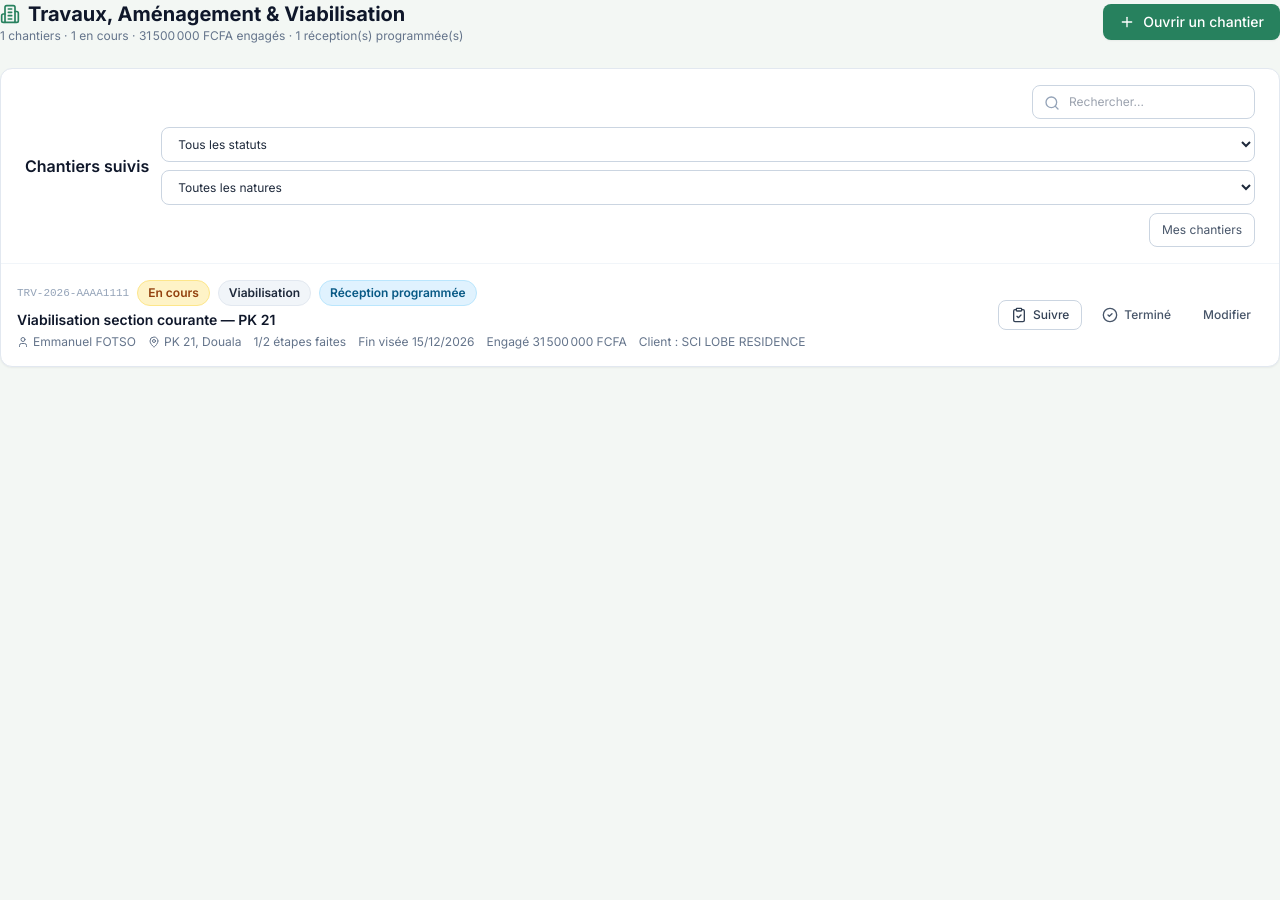
it: ProjectsPage en mode connecté › refuse la création quand la fin prévisionnelle précède le début
The image size is (1280, 900).
Expected: the text "TRV-2026-AAAA1111" is shown, left=17, top=285, right=129, bottom=301
Click the button "Ouvrir un chantier".
click(1192, 22)  # box left=1103, top=4, right=1279, bottom=40
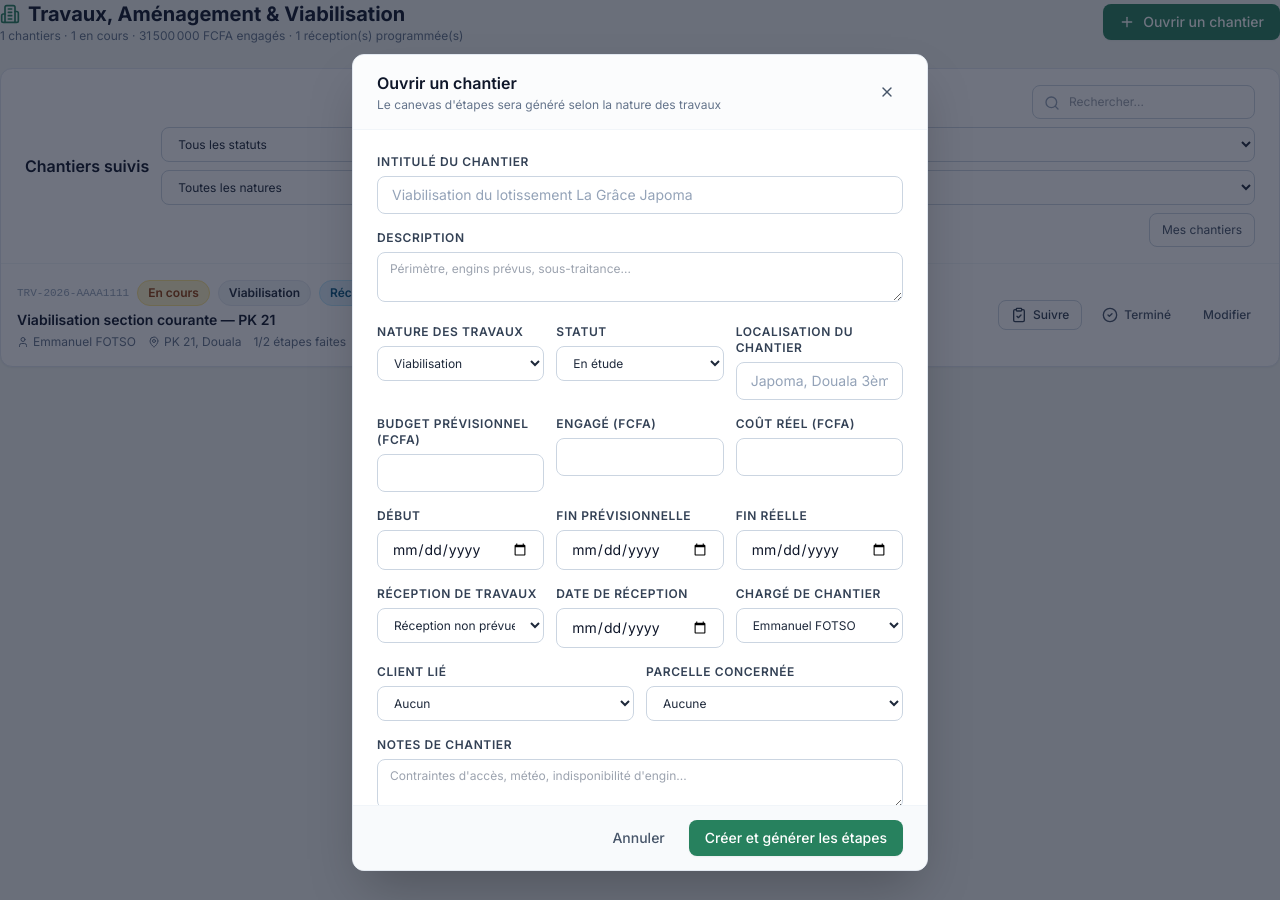
Type "Chantier incohérent" into the field with placeholder "Viabilisation du lotissement La Grâce Japoma".
click(640, 194); type("Chantier incohérent")  # box left=377, top=176, right=903, bottom=214
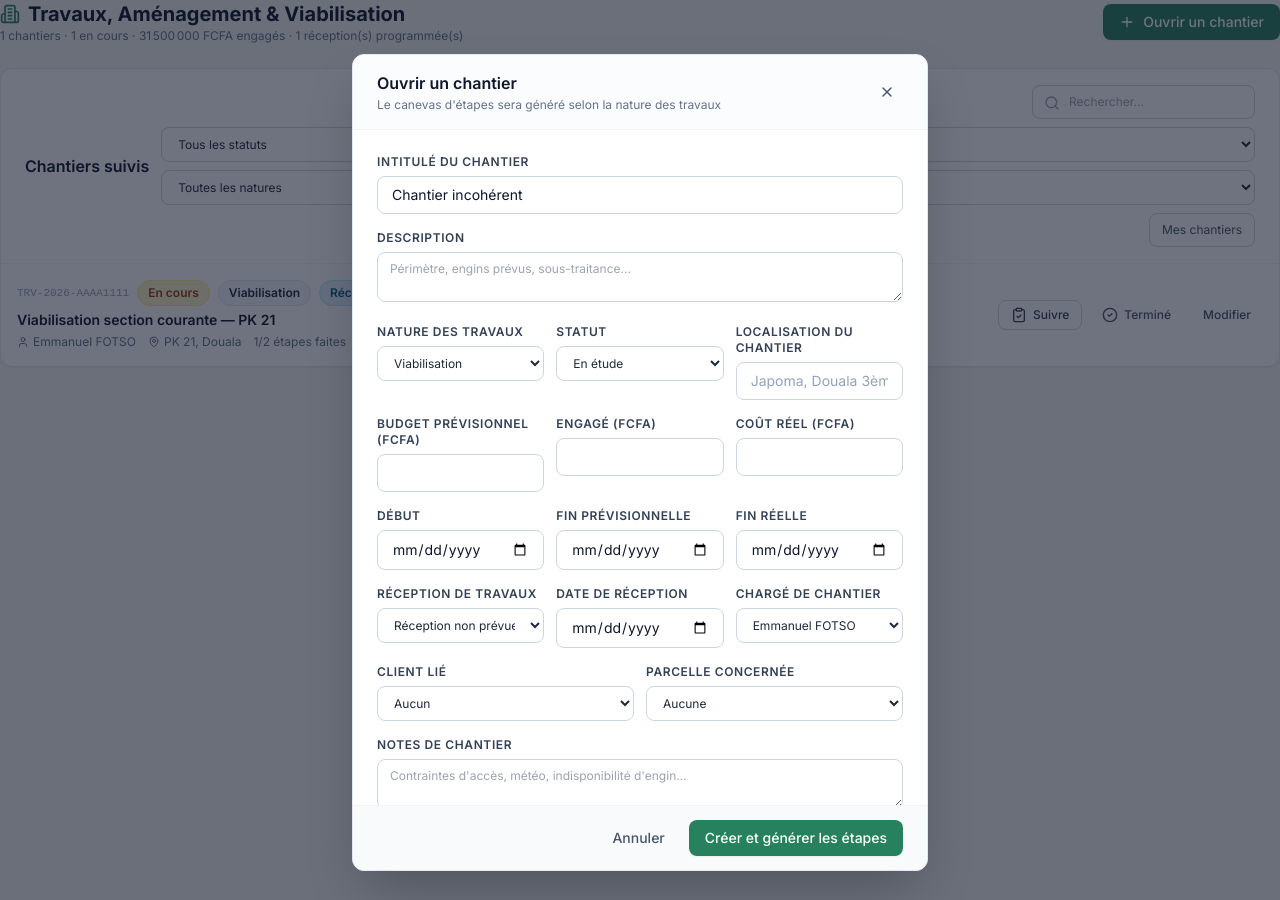
Type "2026-12-20" into the date field labelled "Début".
click(461, 550); type("2026-12-20")  # box left=377, top=530, right=544, bottom=570
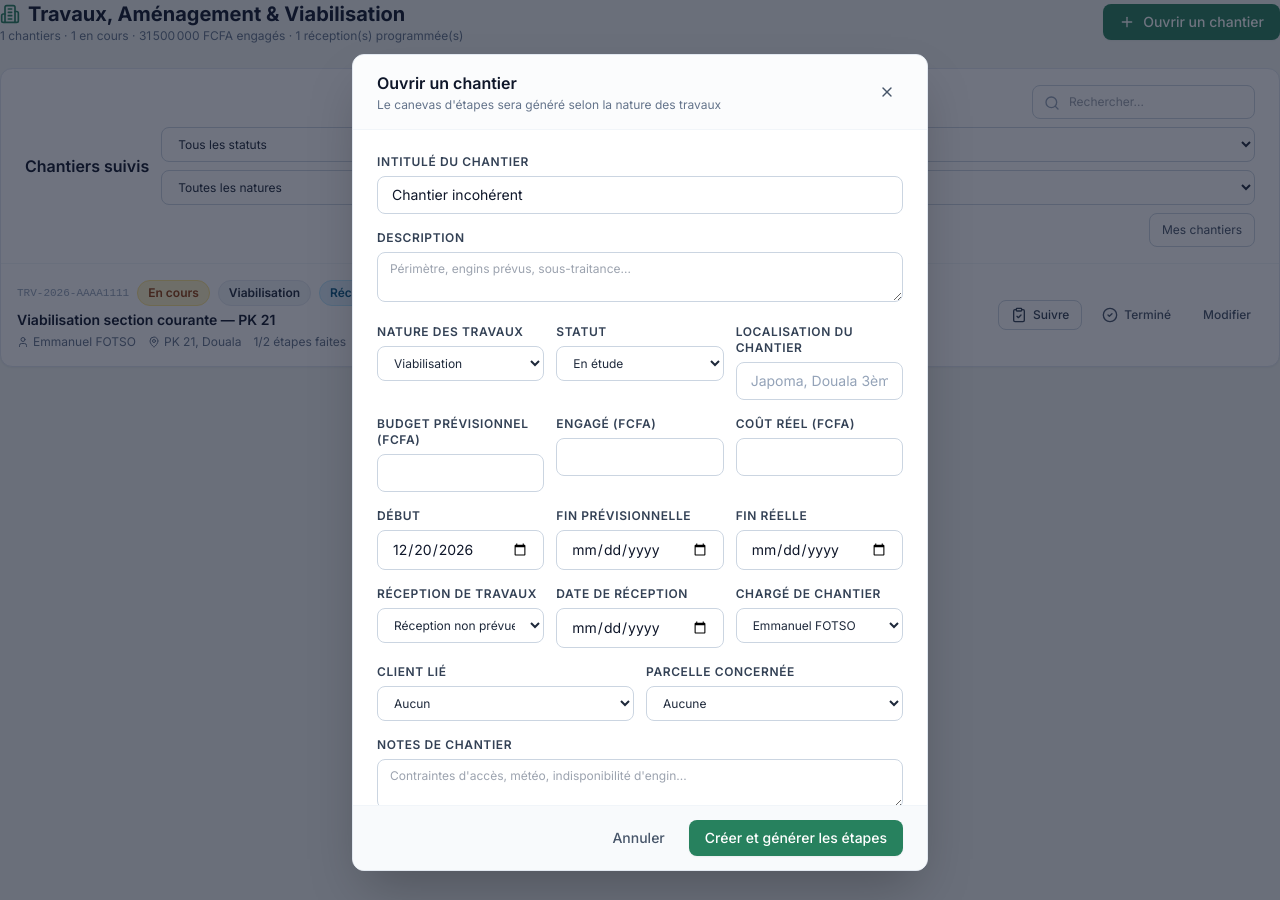
Type "2026-12-10" into the date field labelled "Fin prévisionnelle".
click(640, 550); type("2026-12-10")  # box left=556, top=530, right=724, bottom=570
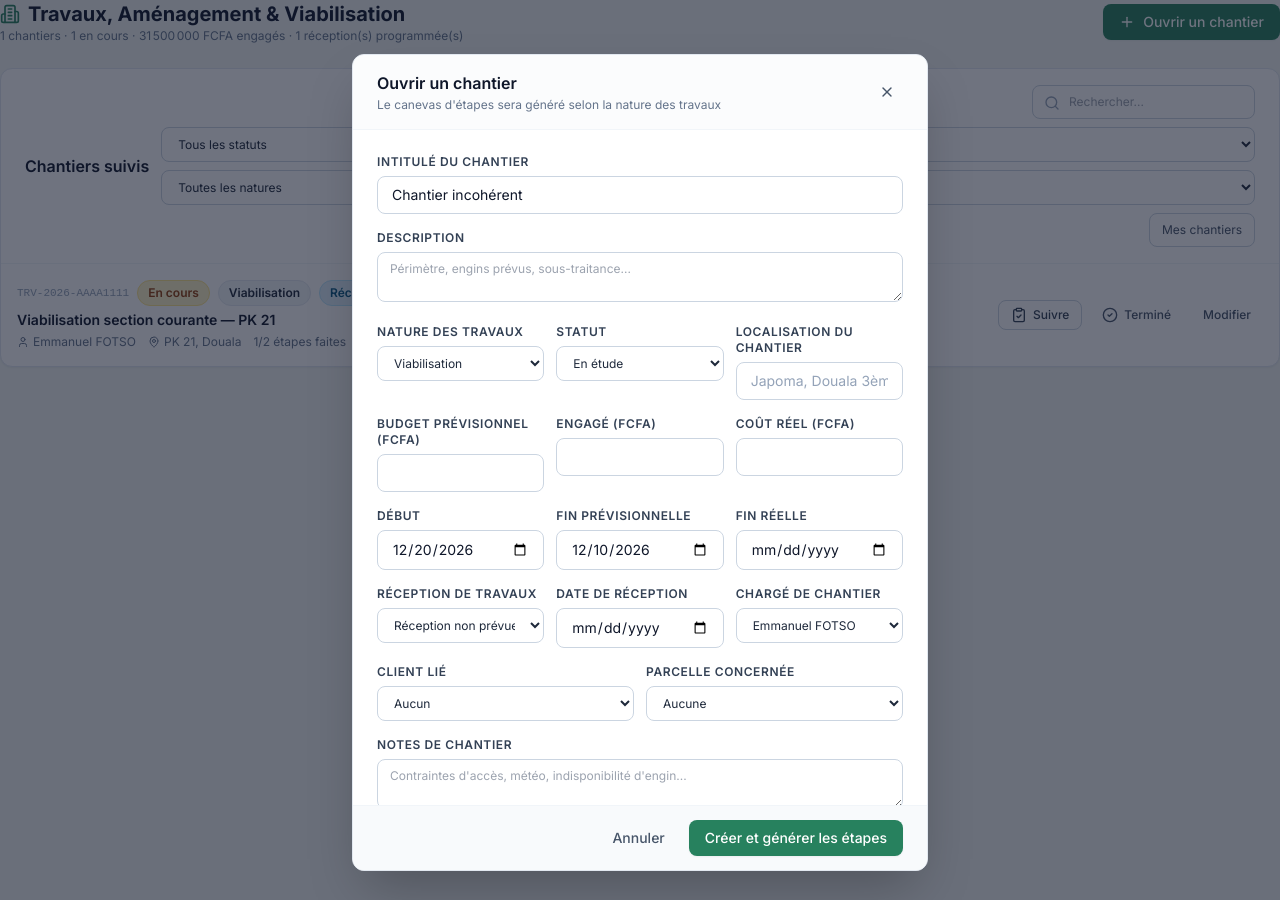
Click the button "Créer et générer les étapes".
click(796, 838)  # box left=689, top=820, right=903, bottom=856
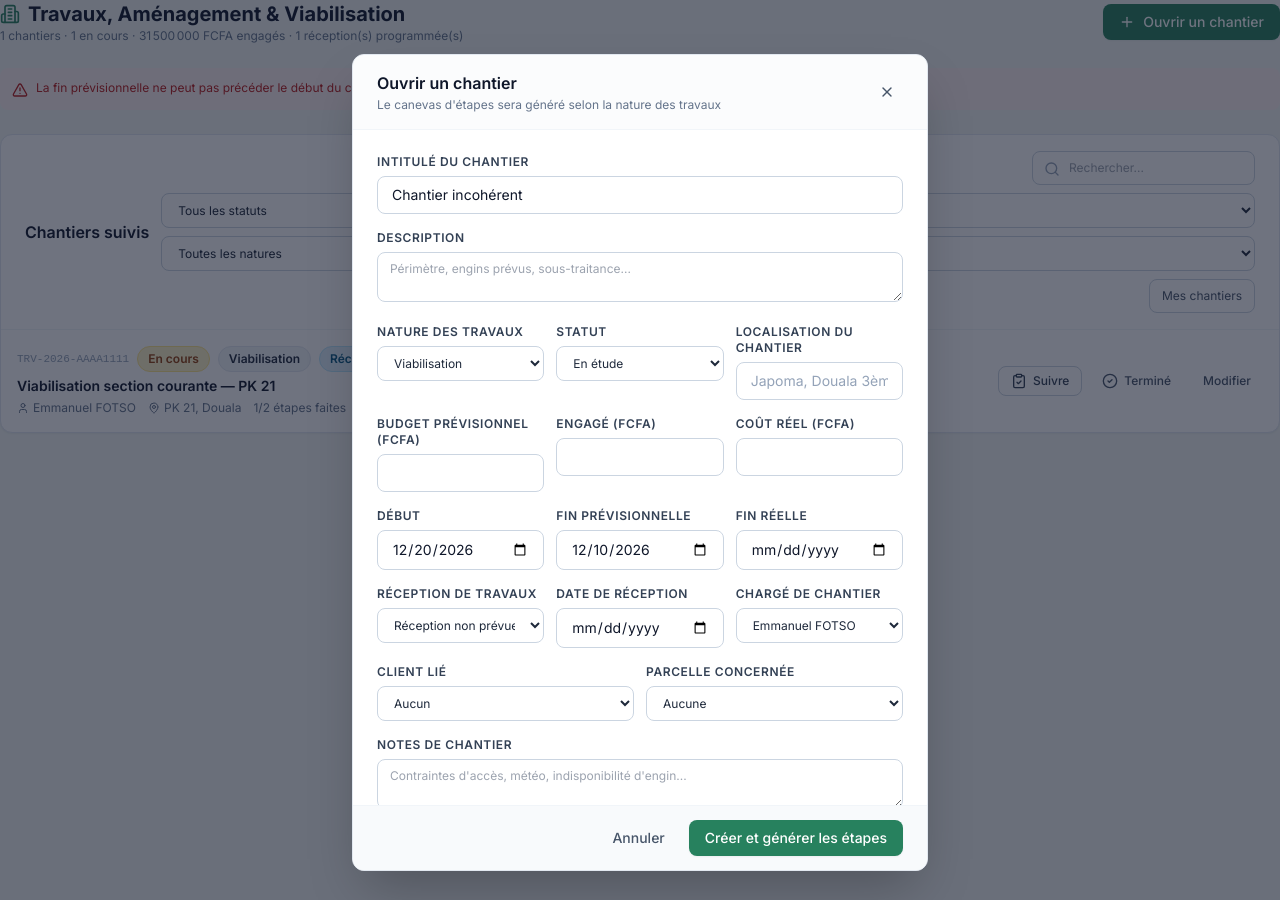
Result: the message reads "La fin prévisionnelle ne peut pas précéder le début du chantier." at left=36, top=80, right=394, bottom=95
